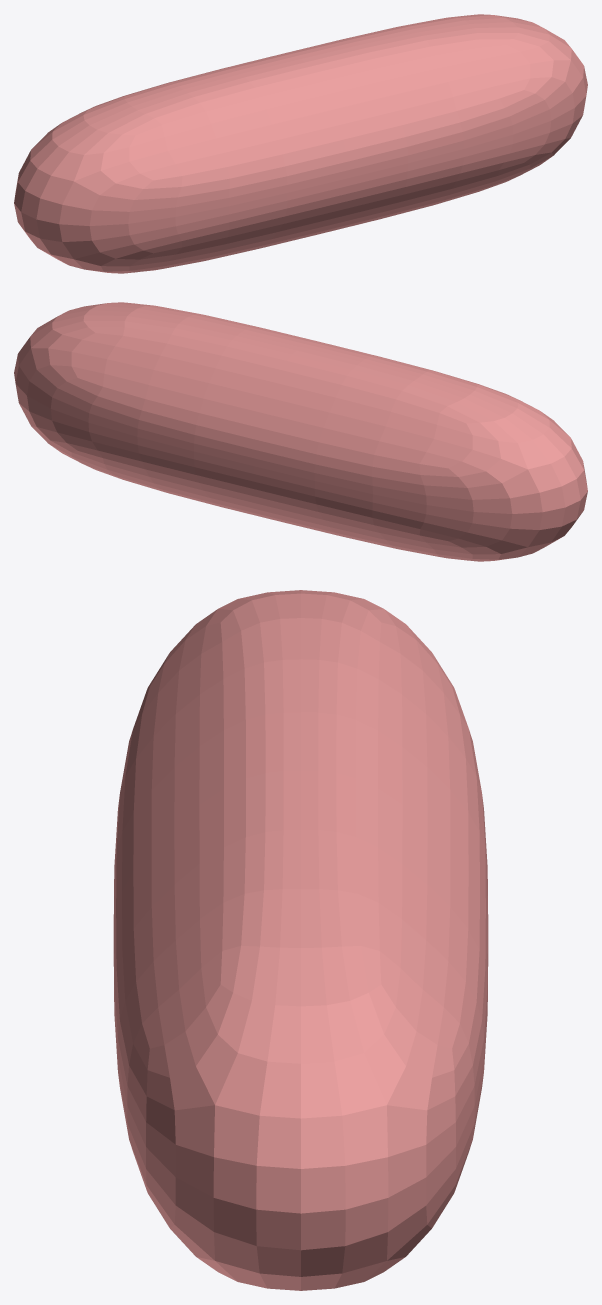
File: Sausage.fbx
The picture shows the model from 3 angles, top to bottom: view 1: azimuth 30°, elevation 25°; view 2: azimuth 150°, elevation 25°; view 3: azimuth 270°, elevation 25°; orthographic projection. The views are drawn at different scales.
Visible parts, largest first — view 1: Сосиска; view 2: Сосиска; view 3: Сосиска.
Part boxes in pixels (x1=…): Сосиска: x1=14, y1=14, x2=587, y2=273; Сосиска: x1=14, y1=302, x2=587, y2=561; Сосиска: x1=113, y1=590, x2=488, y2=1290.
Bounding box in the file's own units: 345 × 100 × 100.
